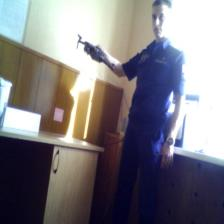drone: (74, 30, 116, 75)
